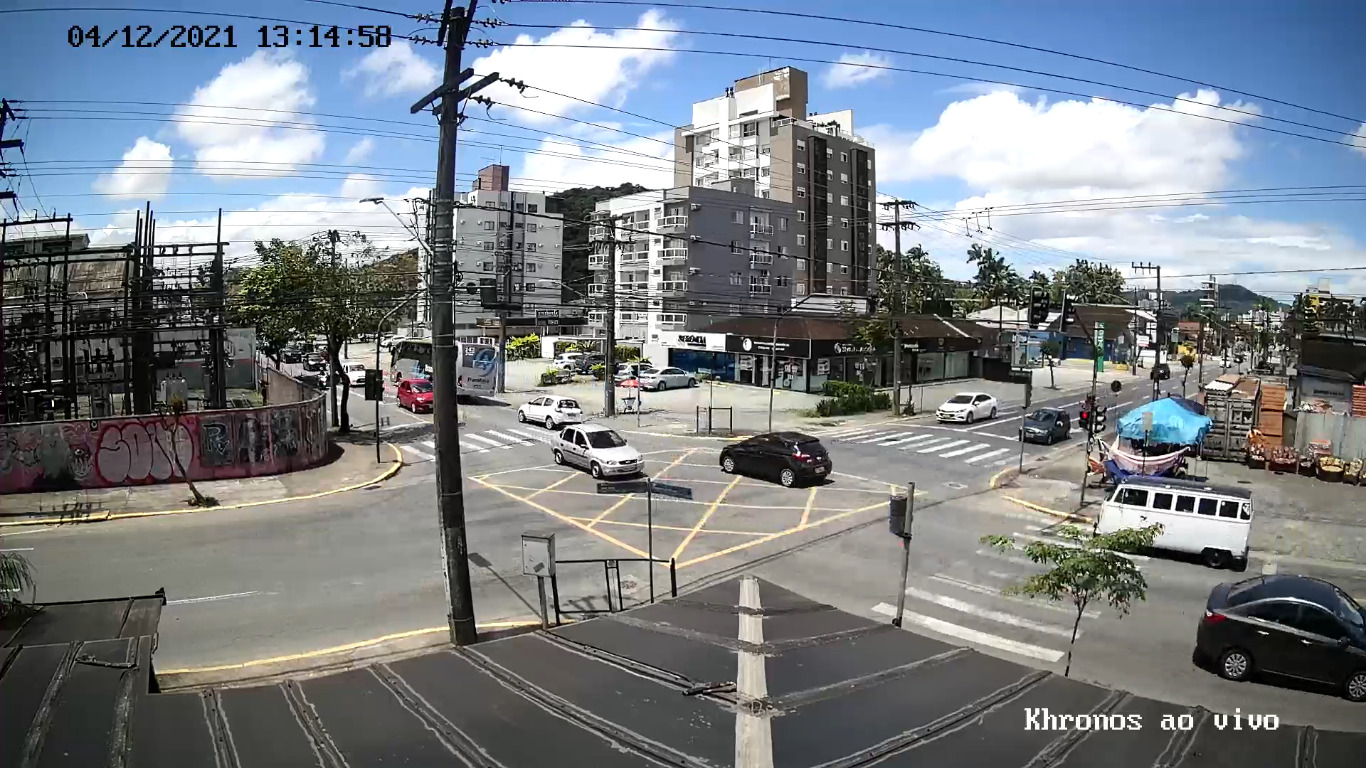car: (1195, 575, 1366, 702), (719, 431, 832, 489), (551, 423, 644, 480)
